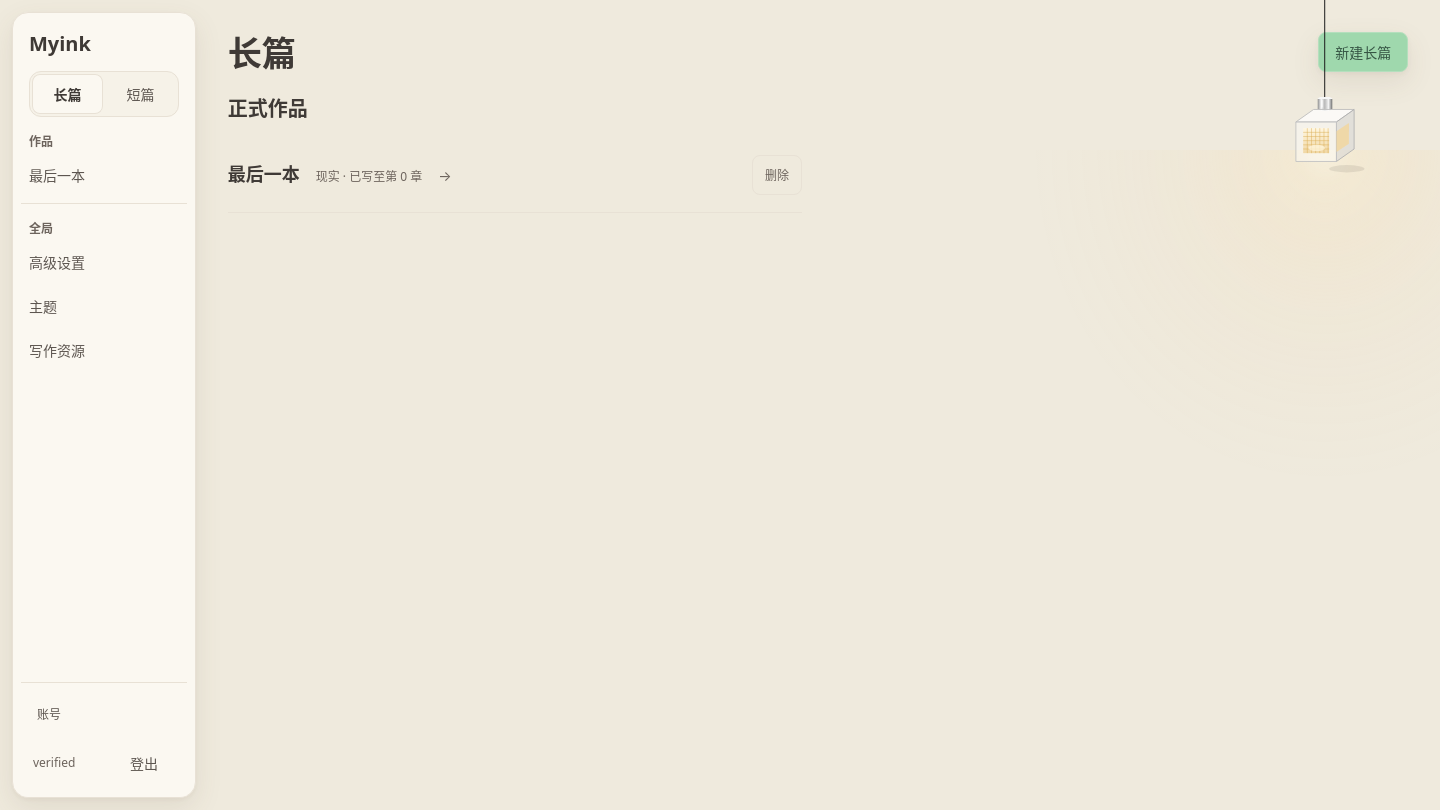
it: removes the last deleted book from the persistent navigation
Expected: the text "最后一本" below "短篇" is shown, left=29, top=166, right=85, bottom=184
Click the button "删除" at coordinates (777, 174), box left=752, top=154, right=802, bottom=194
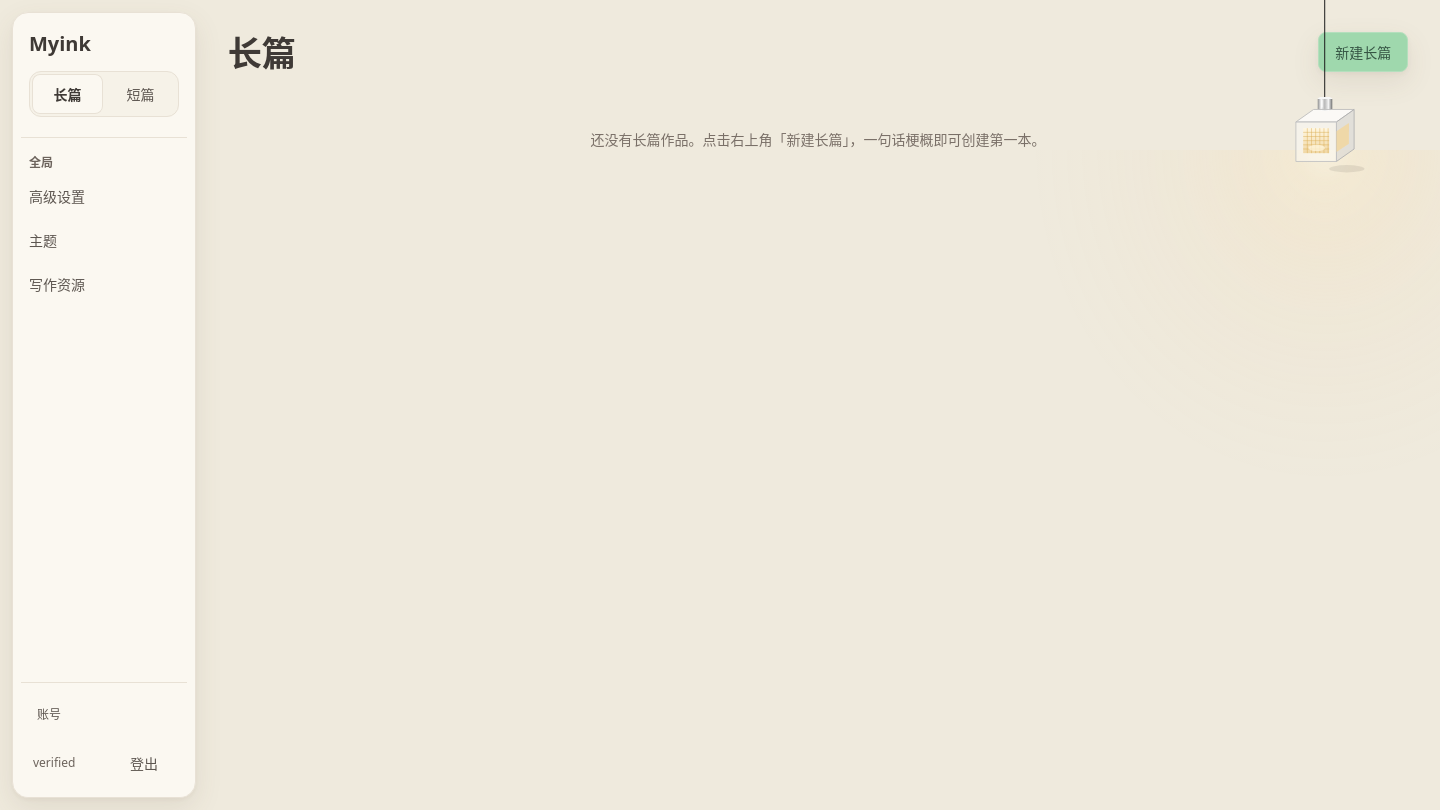
Expected: the link "最后一本" is gone
